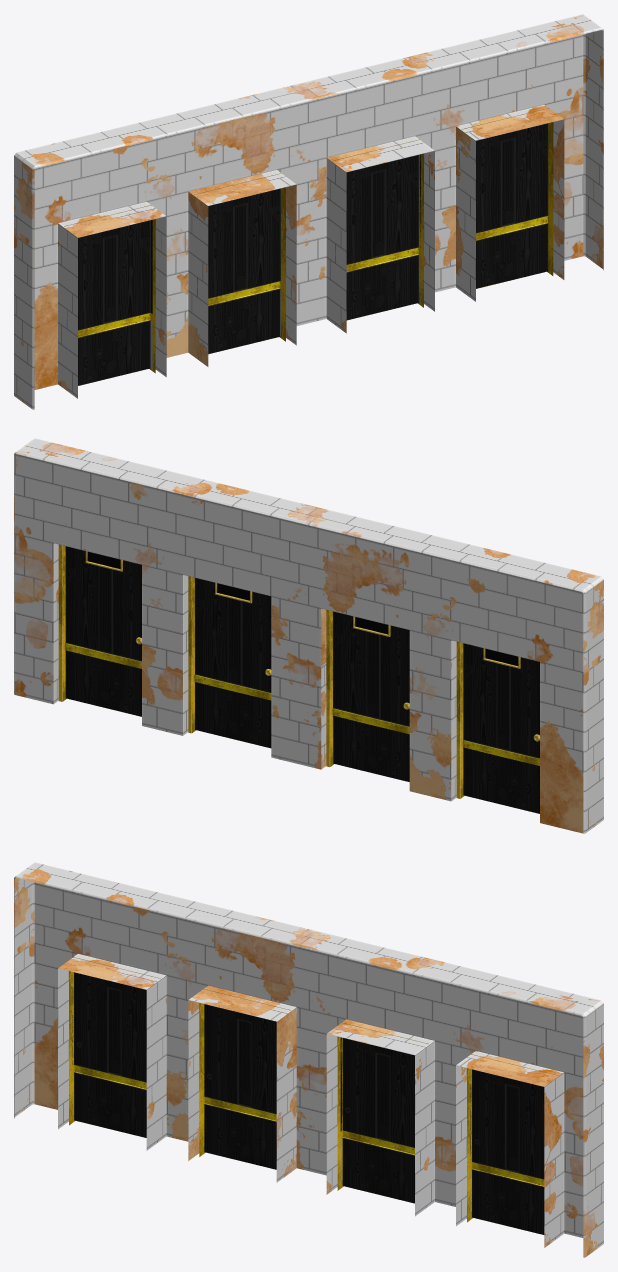
The model's file is 4DoorWall.fbx.
3 views of the same model, one above another, from view 1: azimuth 30°, elevation 25°; view 2: azimuth 150°, elevation 25°; view 3: azimuth 330°, elevation 25° (orthographic).
Parts seen in each view (by area): view 1: 3 Door Wall.001, Door.005, Door.007, Door.008, Door.006, DoorFrame.006, DoorFrame.008, DoorFrame.007, DoorFrame.005; view 2: 3 Door Wall.001, Door.005, Door.007, Door.008, Door.006, DoorFrame.005, DoorFrame.006, DoorFrame.008, DoorFrame.007; view 3: 3 Door Wall.001, Door.007, Door.006, Door.005, Door.008, DoorFrame.008, DoorFrame.007, DoorFrame.005, DoorFrame.006.
Part boxes in pixels (box(x1,y1,x2,y2)): 3 Door Wall.001: box(14, 14, 603, 409); Door.005: box(78, 220, 152, 385); Door.007: box(346, 154, 420, 320); Door.008: box(208, 188, 280, 354); Door.006: box(476, 123, 548, 288); DoorFrame.006: box(461, 108, 553, 275); DoorFrame.008: box(194, 173, 285, 341); DoorFrame.007: box(333, 139, 423, 307); DoorFrame.005: box(64, 205, 155, 373); 3 Door Wall.001: box(14, 438, 603, 833); Door.005: box(463, 643, 539, 813); Door.007: box(194, 578, 271, 748); Door.008: box(332, 611, 409, 781); Door.006: box(65, 546, 141, 716); DoorFrame.005: box(456, 641, 520, 798); DoorFrame.006: box(58, 544, 122, 701); DoorFrame.008: box(326, 610, 390, 767); DoorFrame.007: box(188, 576, 252, 733); 3 Door Wall.001: box(14, 862, 603, 1257); Door.007: box(340, 1037, 414, 1203); Door.006: box(470, 1069, 544, 1234); Door.005: box(72, 972, 146, 1137); Door.008: box(204, 1004, 276, 1169); DoorFrame.008: box(199, 989, 290, 1156); DoorFrame.007: box(337, 1022, 428, 1190); DoorFrame.005: box(69, 957, 160, 1125); DoorFrame.006: box(467, 1054, 558, 1222).
Bounding box in the file's own units: 8.24 × 0.4985 × 3.35.
